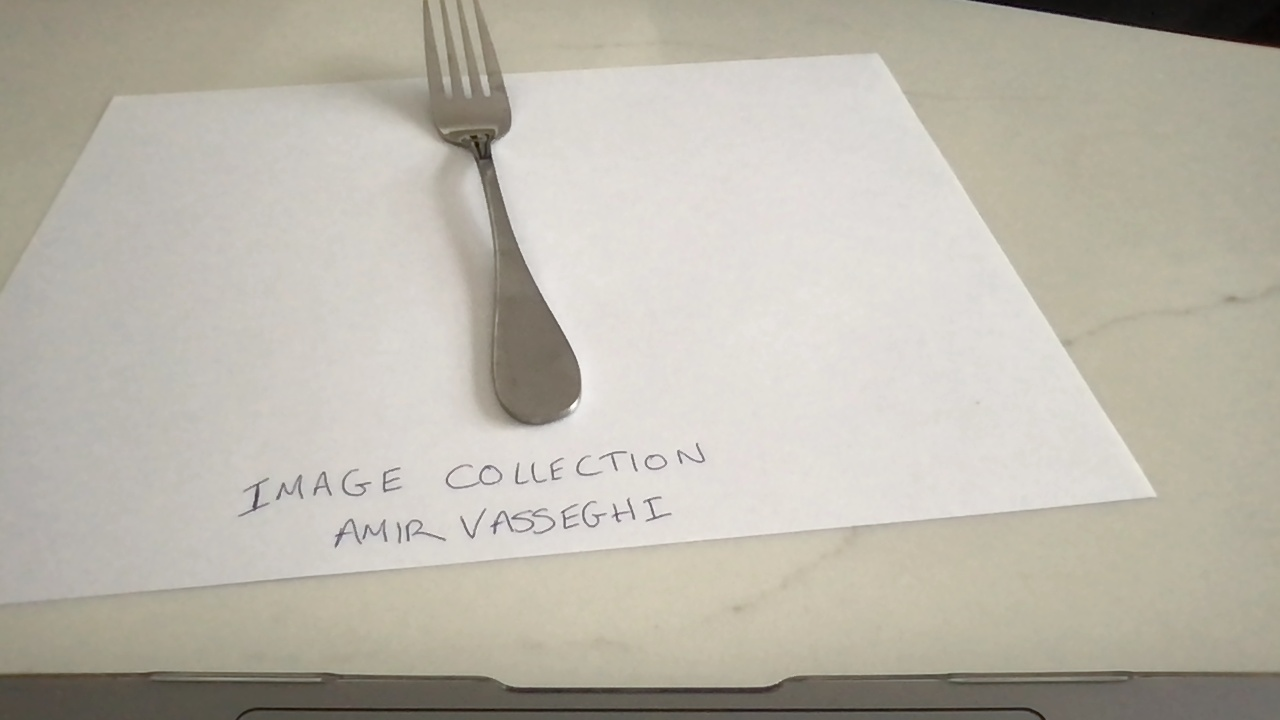fork: (418, 1, 583, 426)
